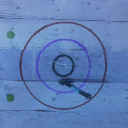Axe Tip: (63, 78, 74, 81)
